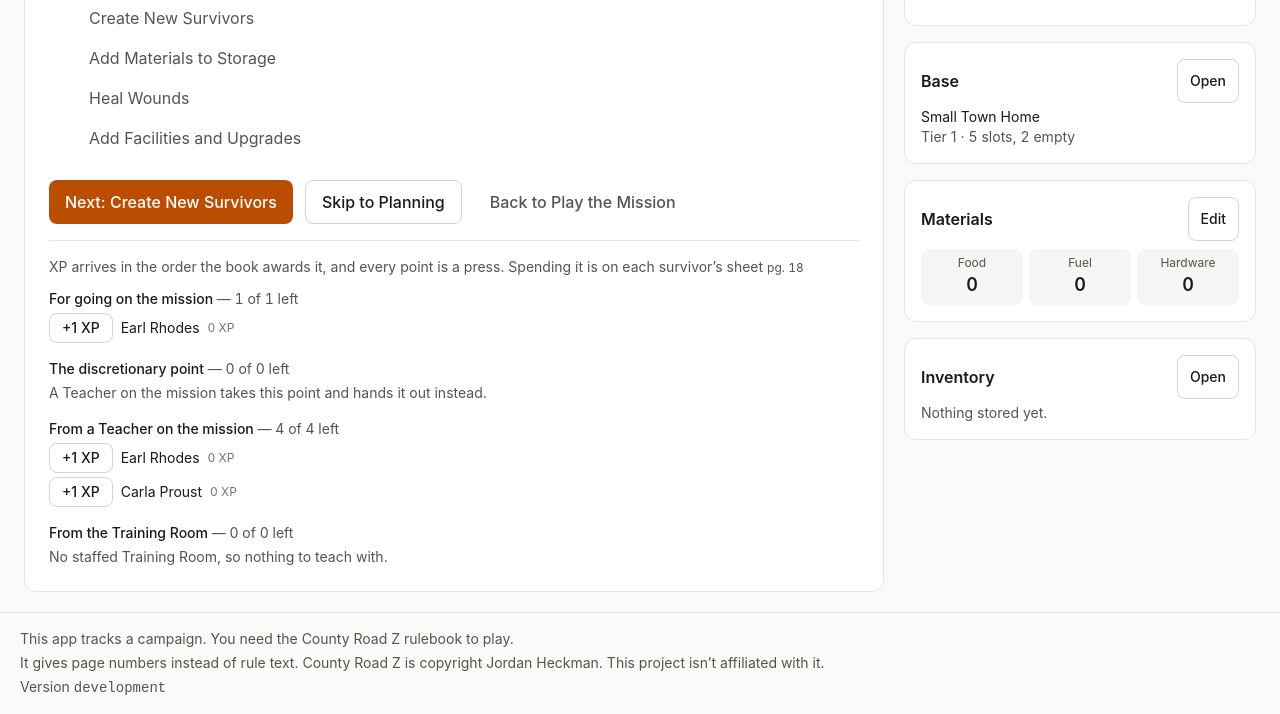
Test: Character Advancement › stops at the cap for one survivor while the pool still has XP
(page scrolled)
What coordinates should you click on to do the following:
click the 3rd button "+1 XP"
I would click on:
 (81, 492)
Its box is [49, 476, 113, 506].
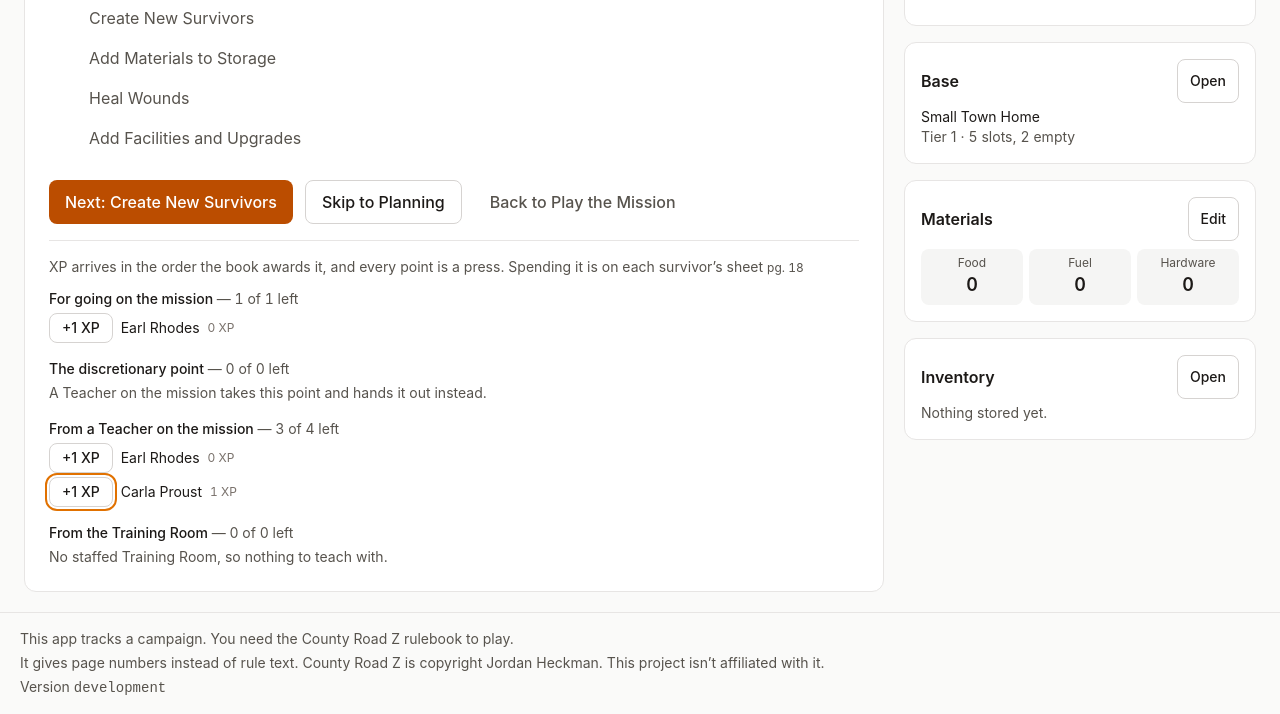
What coordinates should you click on to do the following:
click the 3rd button "+1 XP"
I would click on:
 (81, 492)
Its box is [49, 476, 113, 506].
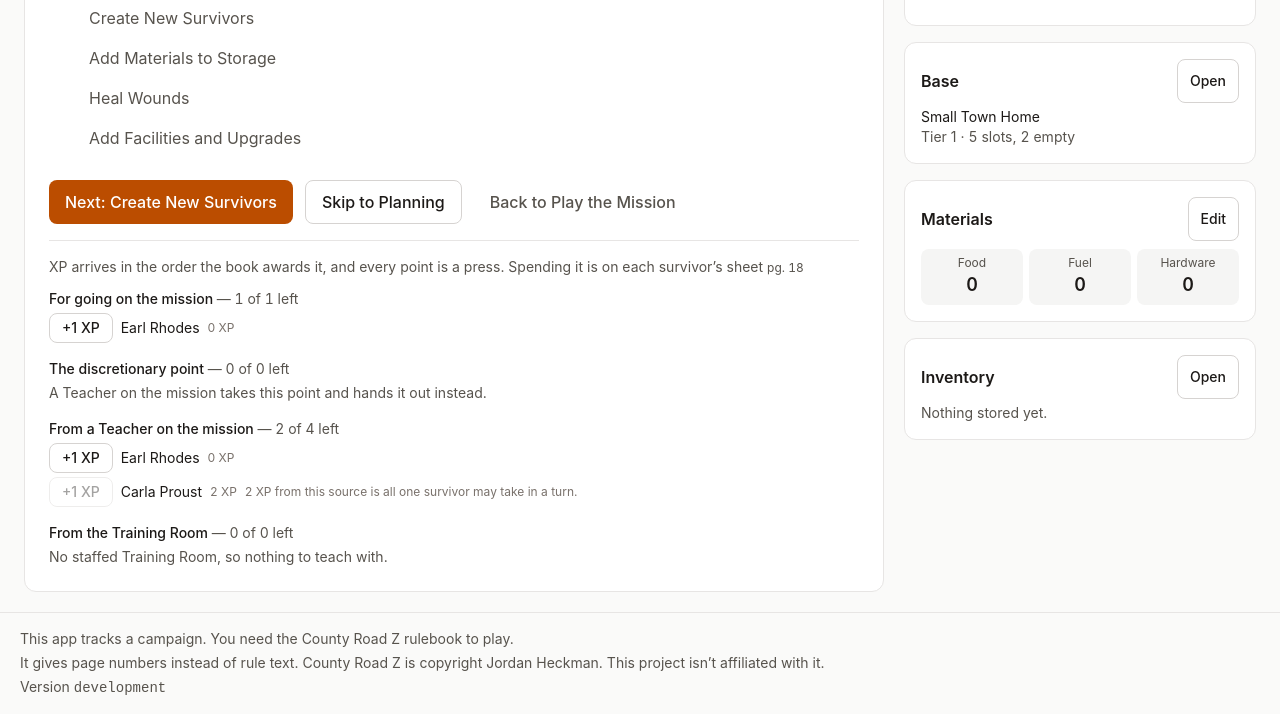
Expected: the 2nd button "+1 XP" is enabled, [49, 442, 113, 472]
Now the 3rd button "+1 XP" is disabled, box [49, 476, 113, 506]
